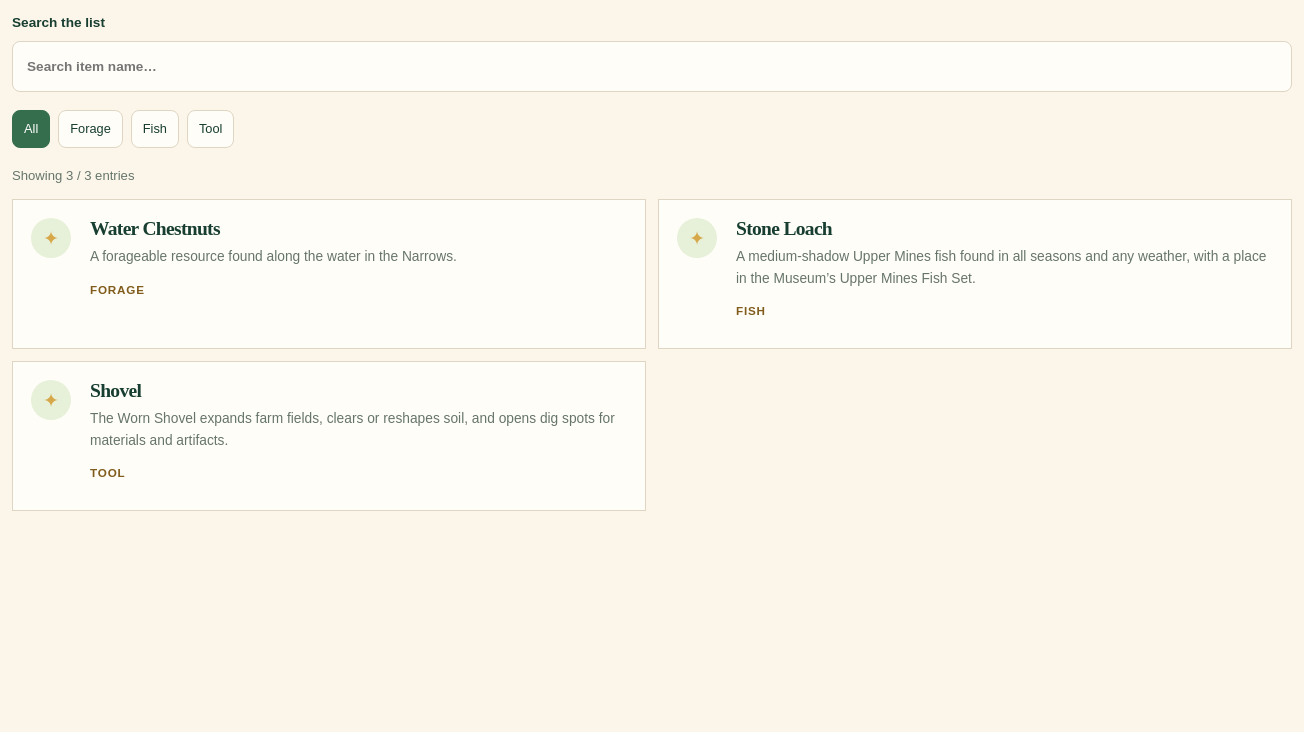
ItemBrowser › filters cards by search text
Step 1. Type "water" into the search field → (652, 67), box x1=12 y1=41 x2=1292 y2=92
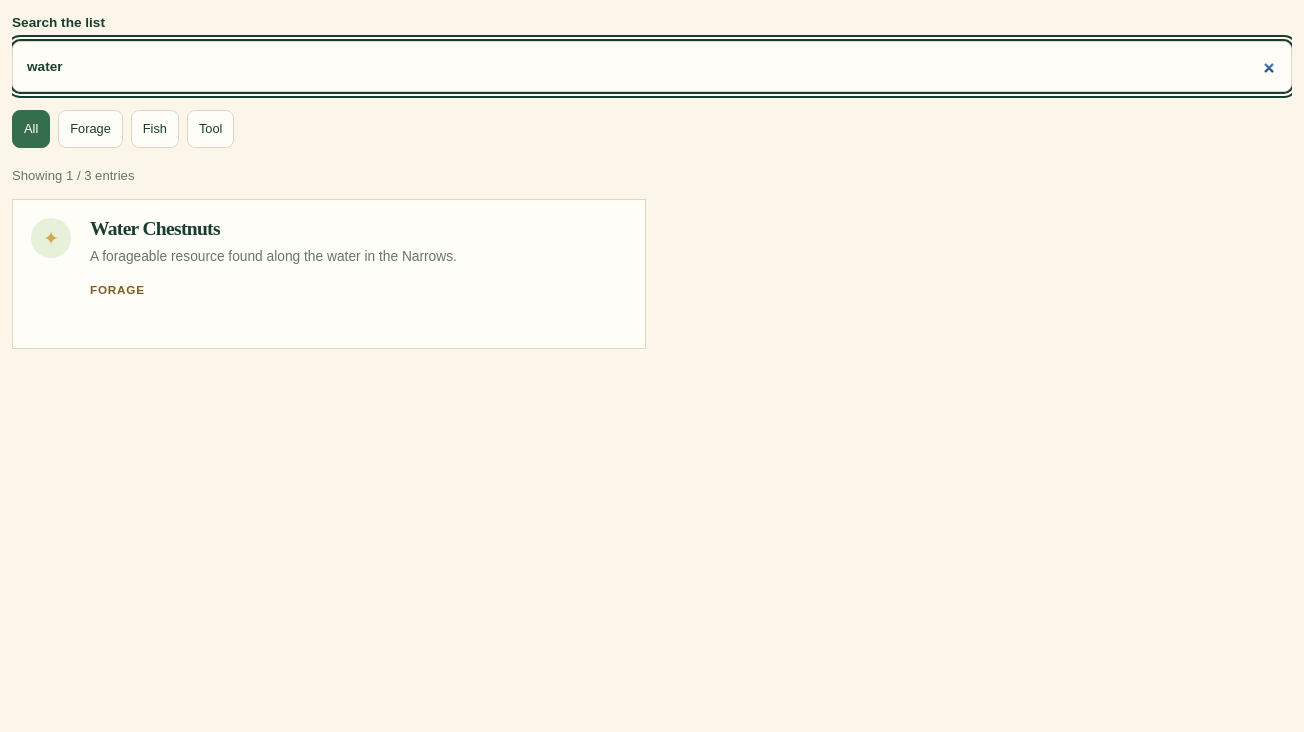
Check: the link "Water Chestnuts" is shown, box x1=12 y1=199 x2=646 y2=349
Check: the link "Stone Loach" is gone
